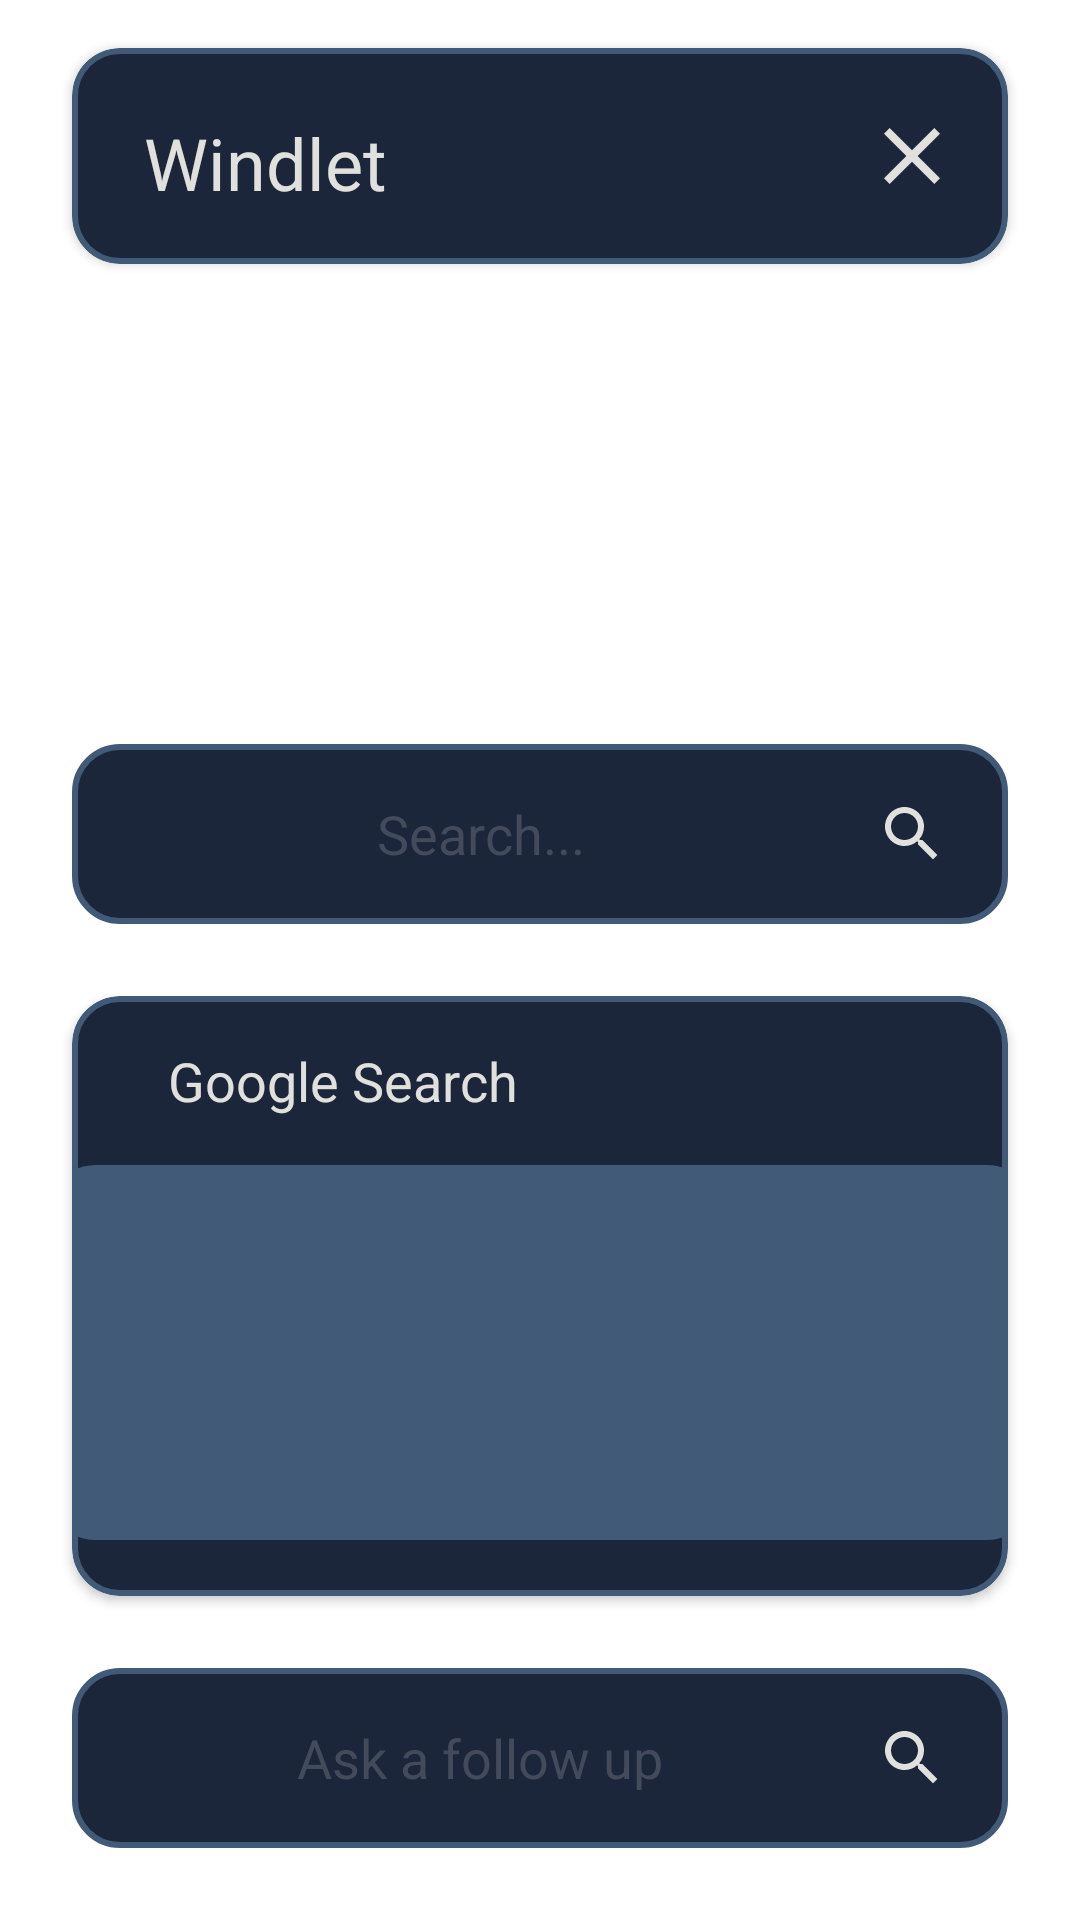

Where icons sit on this 1080 × 1920 app screen, as (x1, y1, x2, y2):
Close Button: (884, 128, 940, 184)
